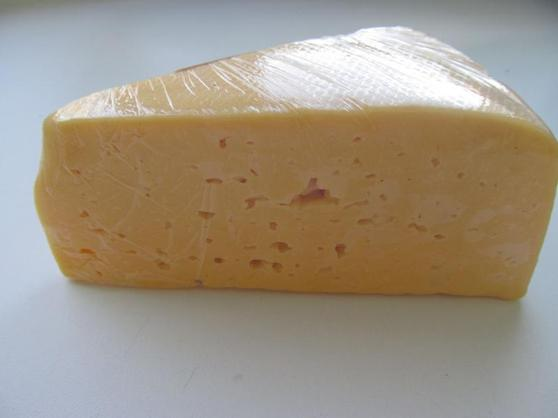cheese: (44, 19, 558, 300)
